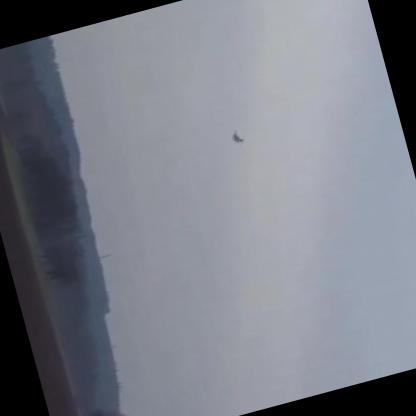plane: (229, 129, 244, 147)
